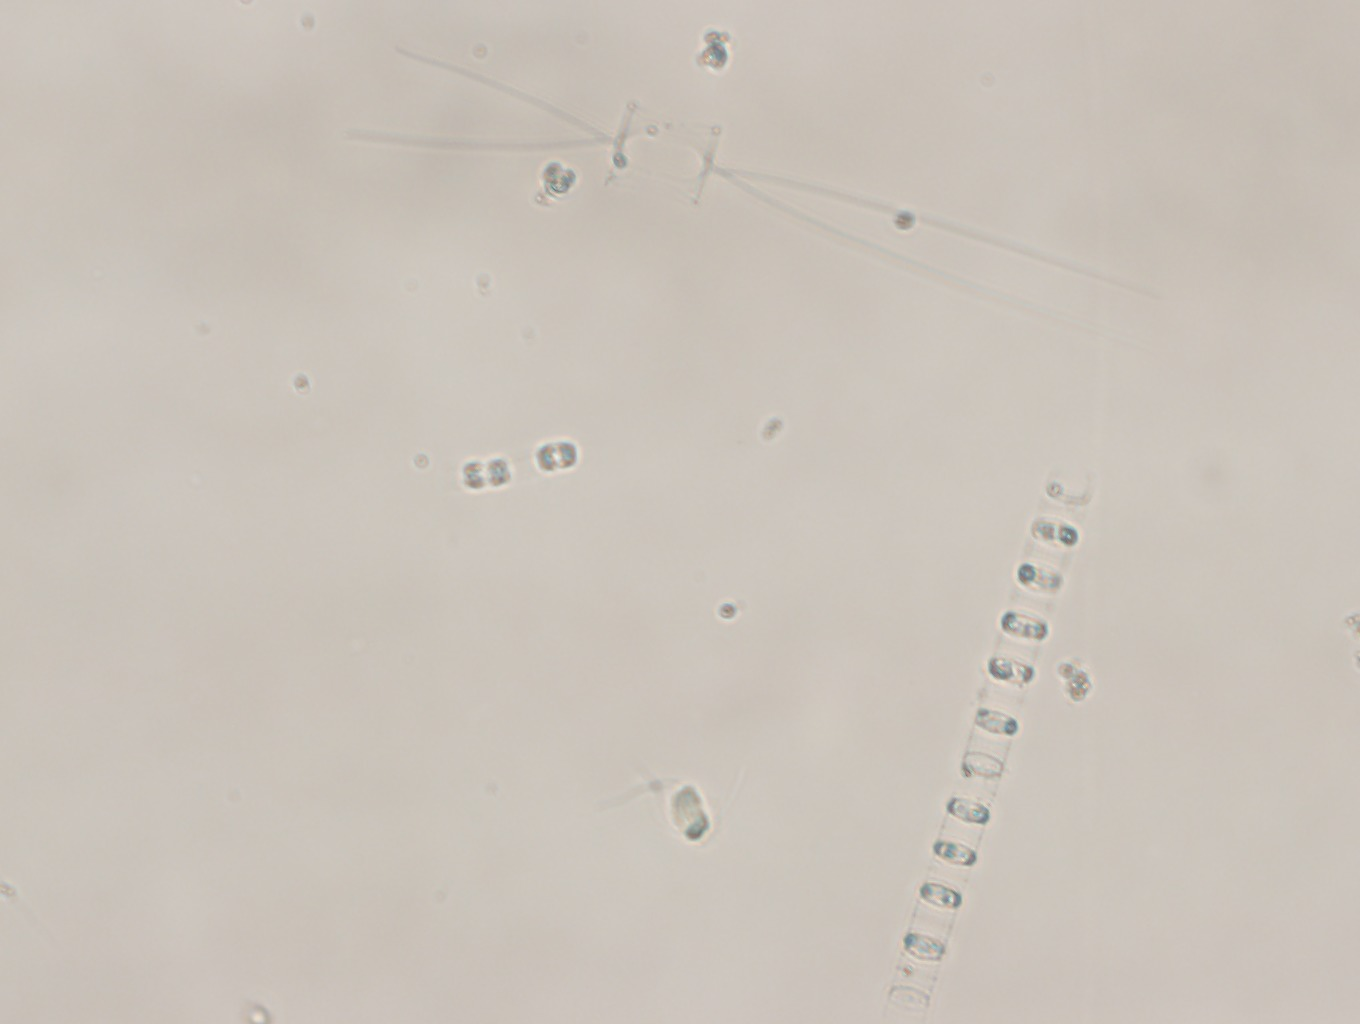chaetoceros: (339, 34, 1135, 329)
skeletonema: (883, 465, 1100, 1016)
